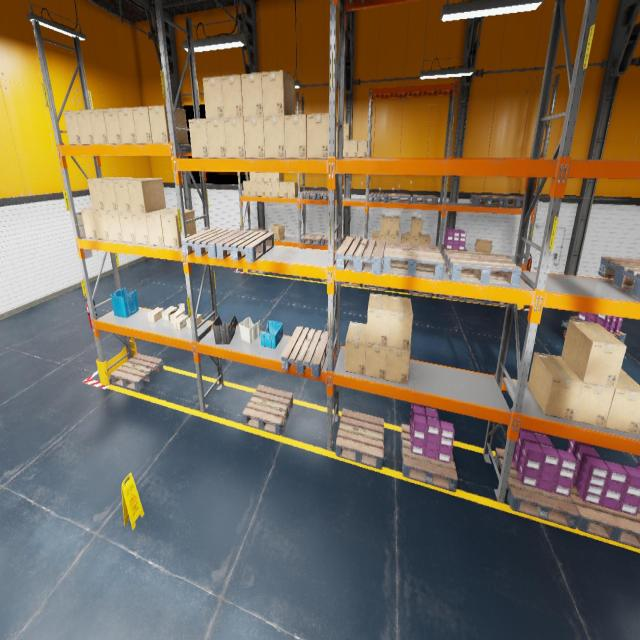box: (562, 320, 626, 388), (561, 357, 615, 427), (528, 352, 582, 420), (604, 368, 640, 434), (148, 105, 188, 144), (262, 70, 295, 115), (388, 295, 413, 350), (161, 209, 196, 248), (127, 178, 166, 213), (307, 113, 336, 158), (366, 293, 390, 346), (345, 322, 367, 375), (88, 178, 124, 210), (146, 209, 177, 246), (100, 178, 133, 211), (113, 178, 145, 212), (284, 114, 307, 158), (241, 72, 263, 116), (221, 74, 243, 118), (264, 116, 286, 158), (202, 76, 224, 118), (243, 117, 265, 158), (224, 117, 246, 158), (386, 347, 410, 384), (206, 118, 227, 158), (365, 343, 388, 379), (189, 119, 209, 158), (132, 106, 153, 143), (117, 107, 137, 144), (103, 108, 123, 144), (89, 108, 108, 144), (63, 110, 82, 145), (76, 110, 95, 144), (132, 213, 150, 244), (118, 212, 136, 243), (80, 207, 98, 238), (105, 211, 123, 241), (93, 210, 110, 240), (170, 303, 185, 323), (270, 224, 285, 241), (474, 238, 492, 252), (173, 314, 188, 329), (147, 308, 163, 322), (186, 314, 201, 328), (162, 306, 176, 321), (411, 218, 422, 236), (287, 182, 298, 198), (390, 216, 399, 235), (348, 140, 358, 157), (381, 216, 390, 234), (280, 182, 290, 198), (358, 140, 367, 157), (372, 230, 380, 248), (343, 123, 351, 140), (420, 233, 431, 245), (272, 172, 284, 182), (264, 182, 272, 196), (257, 182, 265, 196), (243, 180, 250, 196), (401, 232, 411, 243), (410, 234, 420, 244), (380, 234, 390, 244), (272, 182, 279, 196), (250, 182, 257, 195), (343, 140, 348, 157), (249, 172, 257, 182), (389, 234, 398, 242), (264, 172, 271, 182), (257, 172, 264, 182), (336, 140, 337, 157), (336, 126, 337, 140)
pallets: (495, 448, 579, 528), (570, 484, 640, 548), (401, 424, 458, 492), (443, 250, 522, 288), (336, 408, 384, 469), (242, 385, 293, 435), (382, 241, 444, 280), (281, 326, 327, 377), (110, 353, 163, 391), (216, 230, 274, 262), (336, 237, 385, 274), (181, 228, 240, 258), (598, 256, 640, 297), (568, 316, 626, 343), (470, 194, 504, 206), (498, 196, 533, 206), (301, 233, 324, 246), (441, 244, 468, 254), (412, 194, 438, 204), (322, 235, 344, 246), (388, 193, 411, 203), (300, 190, 320, 200), (369, 192, 388, 202), (316, 191, 336, 200), (346, 236, 362, 247), (463, 297, 488, 304), (438, 294, 462, 300), (410, 290, 432, 296), (488, 300, 507, 306), (366, 285, 387, 290), (248, 229, 268, 233), (341, 282, 360, 286), (248, 270, 266, 274), (322, 279, 335, 283), (638, 507, 640, 513)
